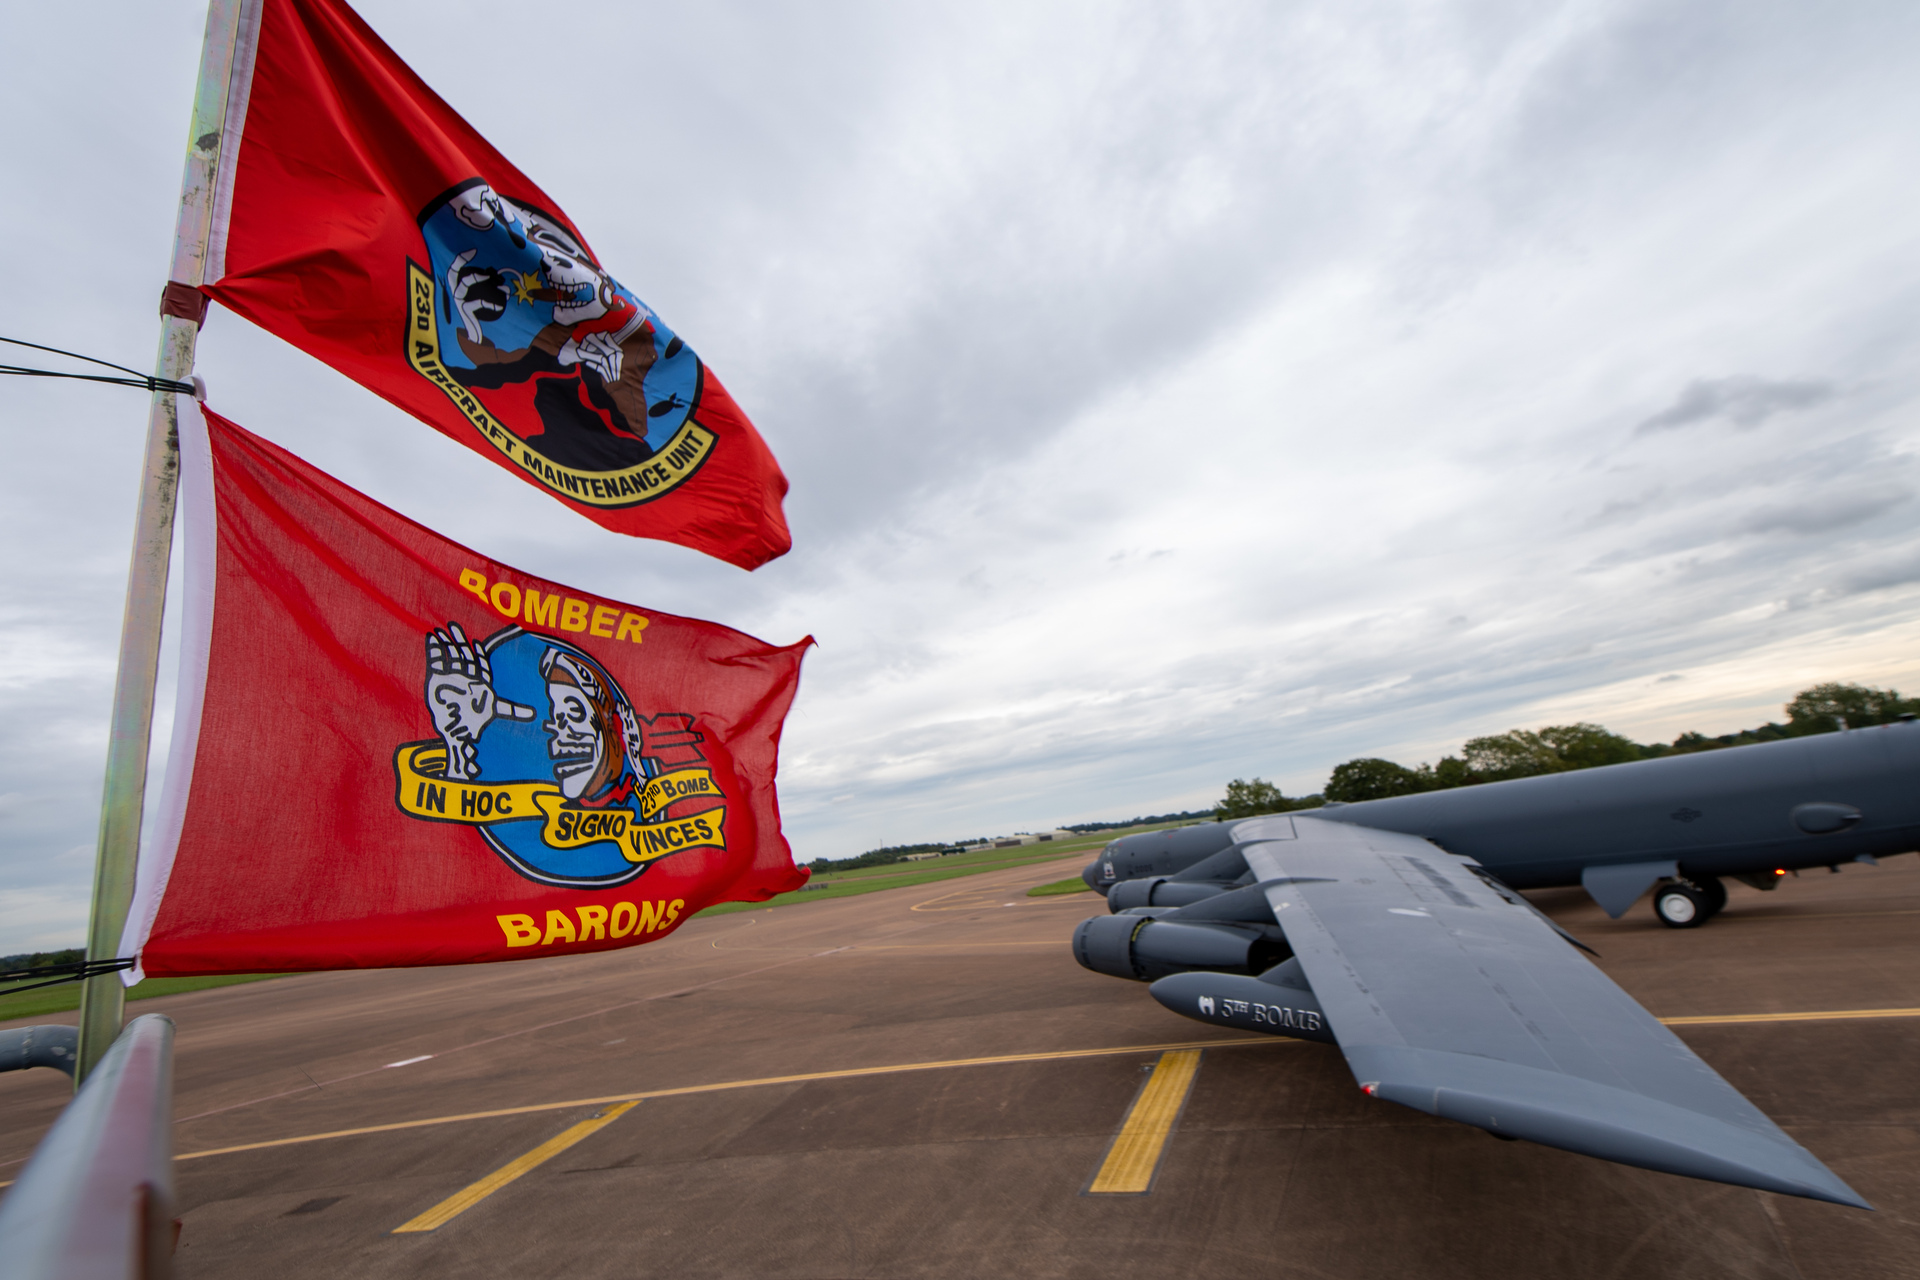B52: (1071, 711, 1920, 1210)
